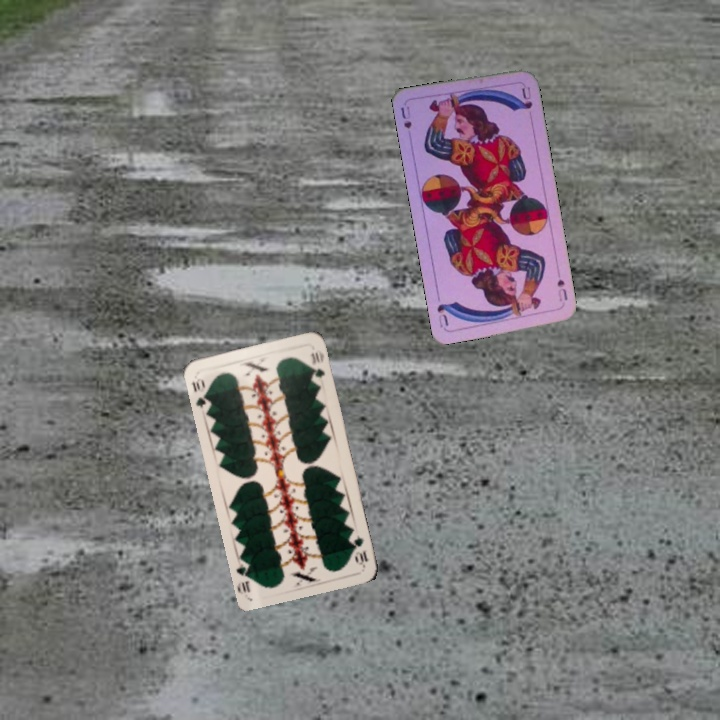G10: (188, 374, 212, 410), (349, 530, 370, 568)
SU: (397, 102, 414, 131), (553, 275, 570, 304)
